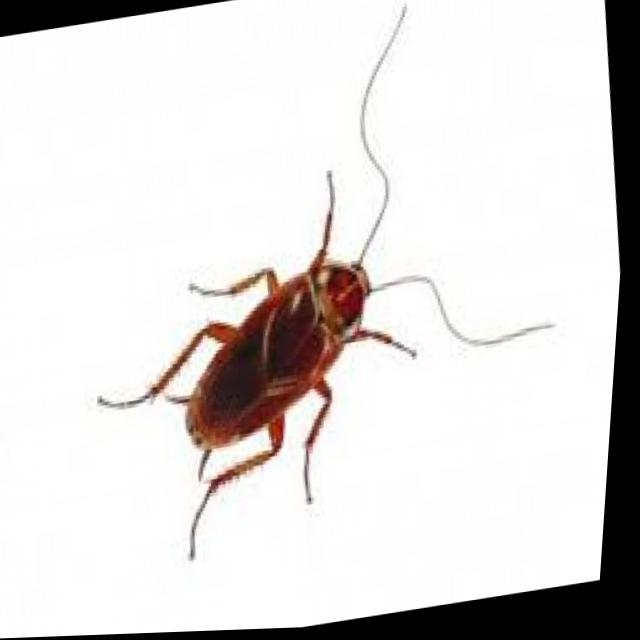Cockroach: (29, 0, 610, 592)
